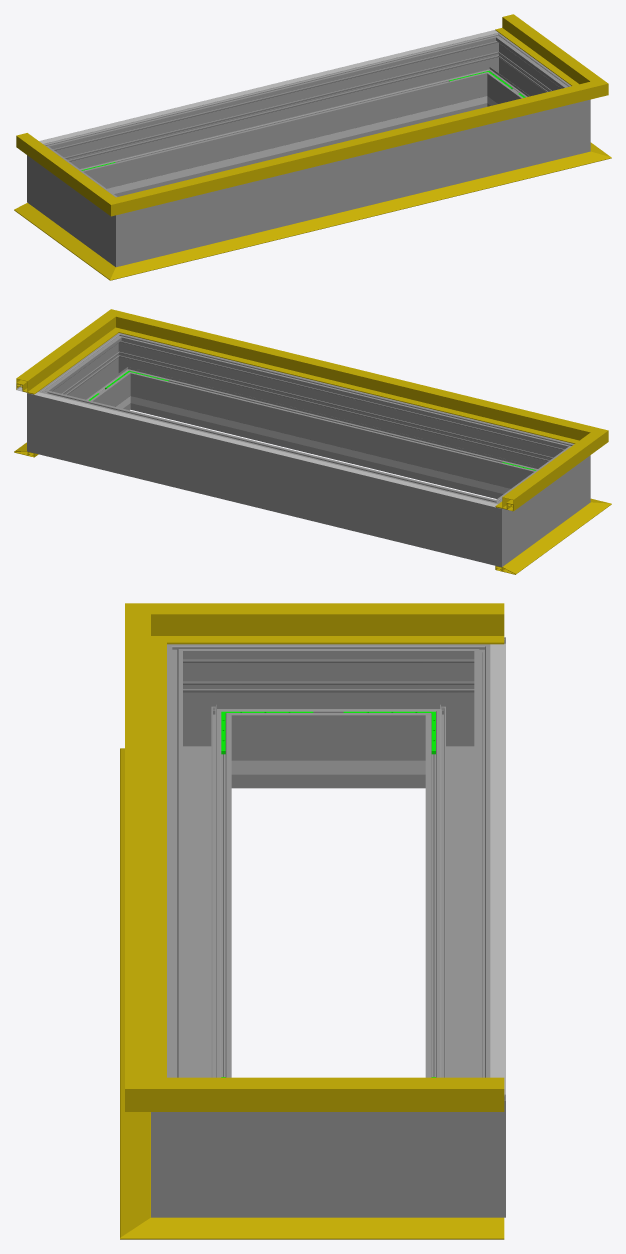
3 renders of one model, top to bottom at view 1: azimuth 30°, elevation 25°; view 2: azimuth 150°, elevation 25°; view 3: azimuth 270°, elevation 25°, orthographic. The views are drawn at different scales.
Parts seen in each view (by area): view 1: 3DGeom-276, 3DGeom-298, 3DGeom-123, 3DGeom-28, 3DGeom-270, 3DGeom-244, 3DGeom-284, 3DGeom-290, 3DGeom-128, 3DGeom-268, 3DGeom-220, 3DGeom-297 (+8 smaller); view 2: 3DGeom-298, 3DGeom-276, 3DGeom-123, 3DGeom-278, 3DGeom-284, 3DGeom-239, 3DGeom-290, 3DGeom-128, 3DGeom-297, 3DGeom-268, 3DGeom-220, 3DGeom-118 (+6 smaller); view 3: 3DGeom-276, 3DGeom-298, 3DGeom-268, 3DGeom-297, 3DGeom-123, 3DGeom-118, 3DGeom-284, 3DGeom-290, 3DGeom-128, 3DGeom-278, 3DGeom-270, 3DGeom-220 (+7 smaller).
Boxes of the visible parts, box(x1,y1,x2,y2) form: 3DGeom-276: box(73, 41, 480, 196); 3DGeom-298: box(157, 110, 548, 256); 3DGeom-123: box(147, 89, 566, 206); 3DGeom-28: box(144, 158, 569, 270); 3DGeom-270: box(91, 188, 157, 267); 3DGeom-244: box(122, 106, 446, 191); 3DGeom-284: box(464, 33, 518, 108); 3DGeom-290: box(549, 77, 590, 161); 3DGeom-128: box(495, 14, 583, 81); 3DGeom-268: box(51, 158, 104, 249); 3DGeom-220: box(39, 30, 498, 143); 3DGeom-297: box(491, 47, 559, 103); 3DGeom-298: box(137, 341, 544, 498); 3DGeom-276: box(69, 397, 467, 556); 3DGeom-123: box(142, 319, 566, 439); 3DGeom-278: box(460, 488, 525, 567); 3DGeom-284: box(27, 377, 76, 461); 3DGeom-239: box(171, 406, 495, 491); 3DGeom-290: box(98, 333, 153, 411); 3DGeom-128: box(16, 327, 105, 394); 3DGeom-297: box(58, 347, 126, 409); 3DGeom-268: box(512, 458, 566, 549); 3DGeom-220: box(34, 392, 497, 507); 3DGeom-118: box(495, 445, 584, 511); 3DGeom-276: box(425, 678, 490, 1077); 3DGeom-298: box(167, 678, 231, 1077); 3DGeom-268: box(247, 644, 409, 788); 3DGeom-297: box(247, 1112, 409, 1217); 3DGeom-123: box(125, 644, 166, 1069); 3DGeom-118: box(221, 603, 504, 644); 3DGeom-284: box(409, 1060, 505, 1217); 3DGeom-290: box(151, 1060, 247, 1217); 3DGeom-128: box(221, 1077, 504, 1111); 3DGeom-278: box(409, 637, 505, 788); 3DGeom-270: box(167, 644, 247, 788); 3DGeom-220: box(490, 643, 505, 1095).
Bounding box in the file's own units: 1.83 × 0.2596 × 0.6096.
